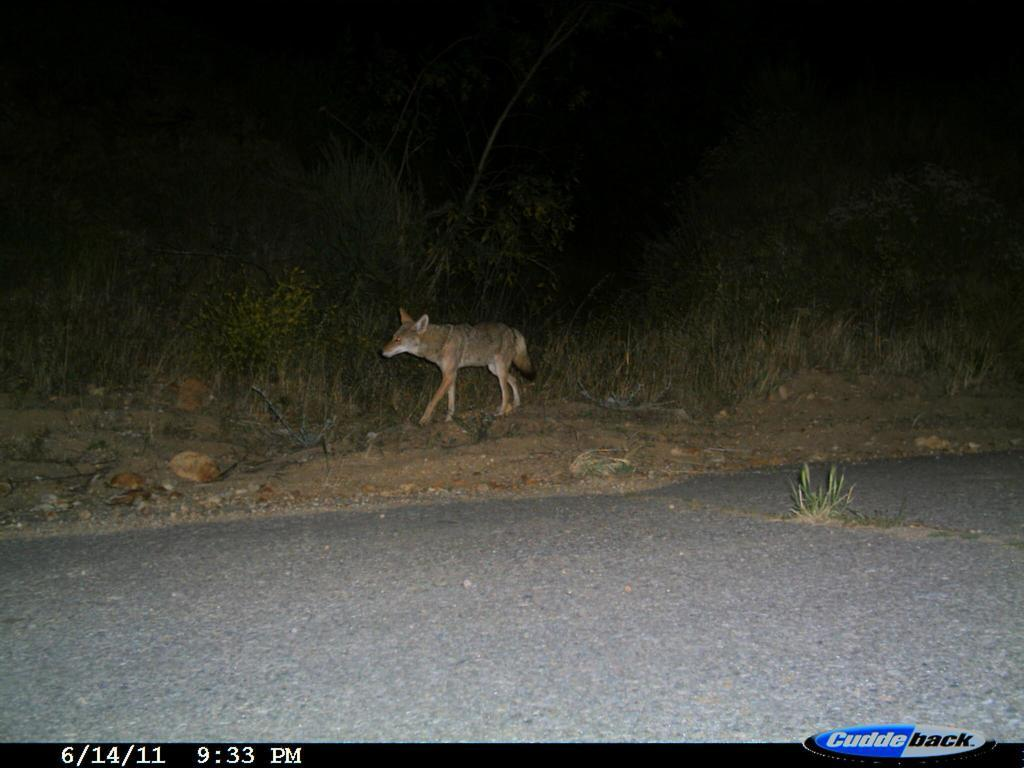coyote: (381, 305, 543, 429)
